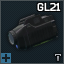Glock GTL 21 tactical flashlight with laser: (0, 0, 64, 64)
